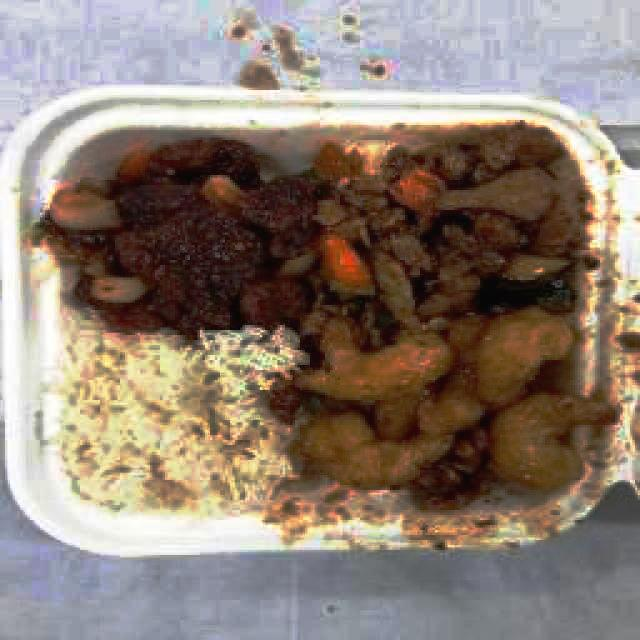Beijing Beef: (32, 121, 605, 317)
rice: (62, 339, 277, 508)
